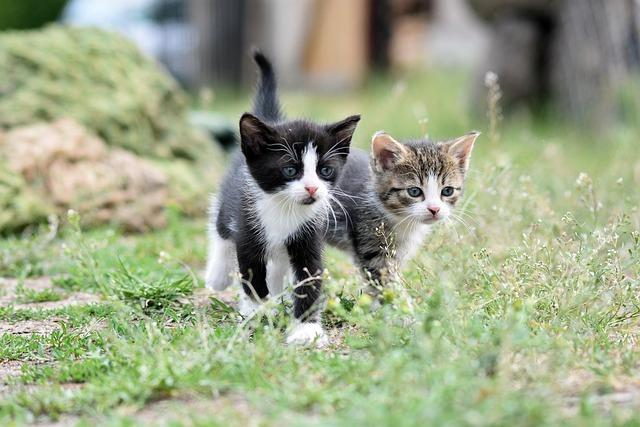Non_Gorille: (10, 0, 640, 427)
